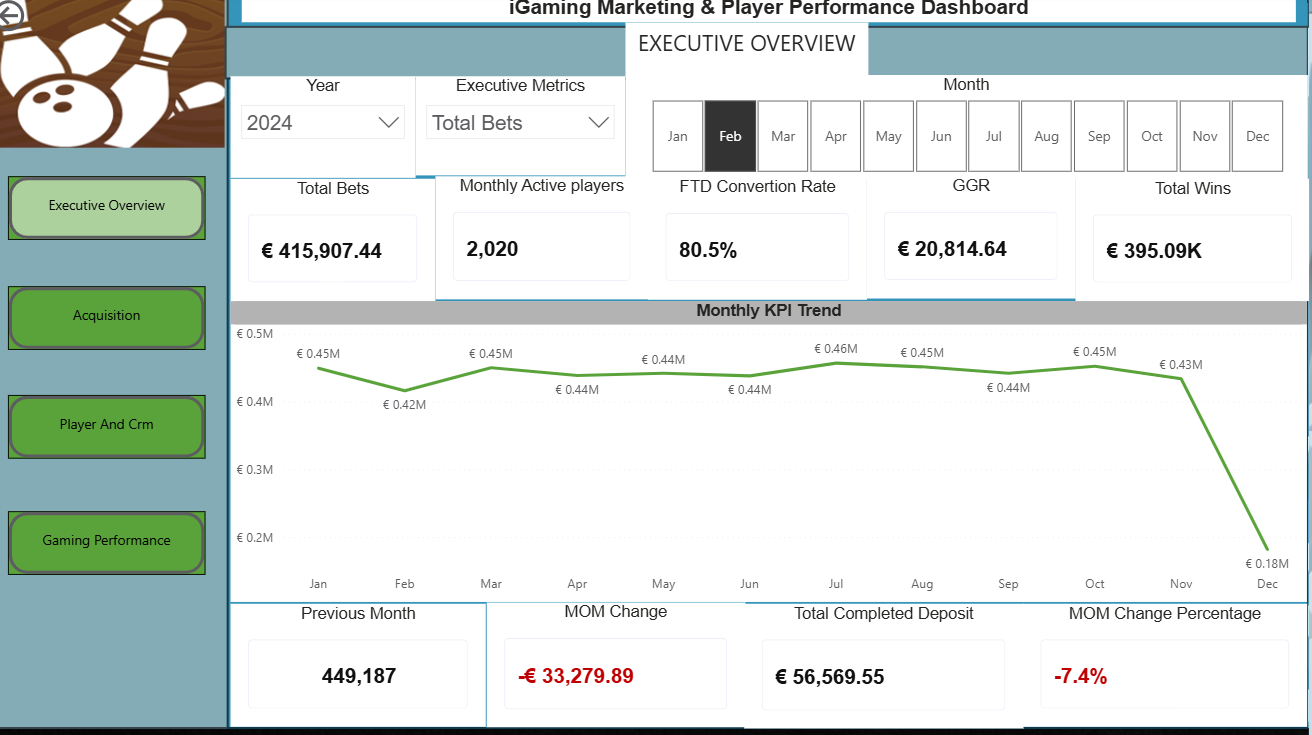

The dashboard page shown, as its layout file describes it:
{"tool":"powerbi","page":{"name":"Executive Overview","canvas":[1280,720],"ordinal":1},"visuals":[{"type":"actionButton","title":"Executive Overview","box":[19.4,175.5,191.3,61.7],"z":0},{"type":"actionButton","title":"Executive Overview","box":[19.4,282,191.3,61.7],"z":1000},{"type":"actionButton","title":"Executive Overview","box":[19.4,387.4,191.3,61.7],"z":2000},{"type":"actionButton","title":"Executive Overview","box":[19.4,499.9,191.3,61.7],"z":3000},{"type":"slicer","title":"Year","fields":{"Values":["DateTable.Year"]},"box":[235.1,79.2,178.9,98.4],"z":4000},{"type":"cardVisual","title":"Monthly Active players","fields":{"Data":["Executive KPI Measure.Monthly Active Players"]},"box":[433.5,175.9,206,119.4],"z":5000},{"type":"cardVisual","title":"GGR","fields":{"Data":["Executive KPI Measure.GGR"]},"box":[850.6,175.9,202.3,118.1],"z":6000},{"type":"cardVisual","title":"FTD Convertion Rate","fields":{"Data":["Executive KPI Measure.FTD Convertion Rate"]},"box":[639.5,177.2,212.3,118.1],"z":7000},{"type":"actionButton","box":[0,0,100,40],"z":8000},{"type":"lineChart","title":"Monthly KPI Trend","fields":{"Category":["DateTable.MonthName"],"Y":["Executive KPI Measure.Total Wins"]},"box":[234.9,296.5,1042.8,291.5],"z":9000},{"type":"cardVisual","title":"Total Bets","fields":{"Data":["Executive KPI Measure.Total Bets"]},"box":[234.9,178.4,198.5,118.1],"z":10000},{"type":"cardVisual","title":"Total Completed Deposit","fields":{"Data":["Executive KPI Measure.Total Completed Deposit"]},"box":[732.5,589.2,270.1,120.6],"z":11000},{"type":"cardVisual","title":"Total Wins","fields":{"Data":["Executive KPI Measure.Total Wins"]},"box":[1052.8,178.4,227.4,118.1],"z":12000},{"type":"slicer","title":"Month","fields":{"Values":["DateTable.MonthName"]},"box":[617.1,77.9,660.6,100.9],"z":13000},{"type":"cardVisual","title":"Previous Month","fields":{"Data":["Executive KPI Measure.Previous Month KPI"]},"box":[234.9,589.2,247.5,119.4],"z":14000},{"type":"slicer","title":"Executive Metrics","fields":{"Values":["Executive Metrics.Executive Metrics"]},"box":[414,79.2,203.2,95.8],"z":15000},{"type":"cardVisual","title":"MOM Change Percentage","fields":{"Data":["Executive KPI Measure.MoM Change Percentage"]},"box":[1002.6,589.2,275.1,119.4],"z":16000},{"type":"cardVisual","title":"MOM Change","fields":{"Data":["Executive KPI Measure.MOM Change"]},"box":[482.5,588,250,120.6],"z":17000},{"type":"textbox","box":[617.4,26.6,234.8,50.8],"z":18000},{"type":"textbox","title":"iGaming Marketing & Player Performance Dashboard","box":[245.7,0,1020.4,26.6],"z":19000}]}

Visuals, with their boxes on the page's 1280x720 design canvas (x1, y1, x2, y2). These are canvas units, not pixel positions in the 1312x735 screenshot, which may show the page scaled, cropped or inside an application window:
"Executive Overview" actionButton: locate(19, 176, 211, 237)
"Executive Overview" actionButton: locate(19, 282, 211, 344)
"Executive Overview" actionButton: locate(19, 387, 211, 449)
"Executive Overview" actionButton: locate(19, 500, 211, 562)
"Year" slicer: locate(235, 79, 414, 178)
"Monthly Active players" cardVisual: locate(434, 176, 640, 295)
"GGR" cardVisual: locate(851, 176, 1053, 294)
"FTD Convertion Rate" cardVisual: locate(640, 177, 852, 295)
actionButton: locate(0, 0, 100, 40)
"Monthly KPI Trend" lineChart: locate(235, 296, 1278, 588)
"Total Bets" cardVisual: locate(235, 178, 433, 296)
"Total Completed Deposit" cardVisual: locate(732, 589, 1003, 710)
"Total Wins" cardVisual: locate(1053, 178, 1280, 296)
"Month" slicer: locate(617, 78, 1278, 179)
"Previous Month" cardVisual: locate(235, 589, 482, 709)
"Executive Metrics" slicer: locate(414, 79, 617, 175)
"MOM Change Percentage" cardVisual: locate(1003, 589, 1278, 709)
"MOM Change" cardVisual: locate(482, 588, 732, 709)
textbox: locate(617, 27, 852, 77)
"iGaming Marketing & Player Performance Dashboard" textbox: locate(246, 0, 1266, 27)
